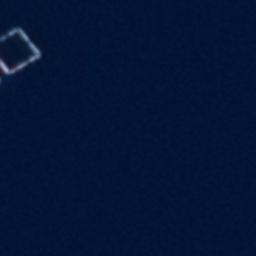square_solid: (1, 22, 46, 80)
